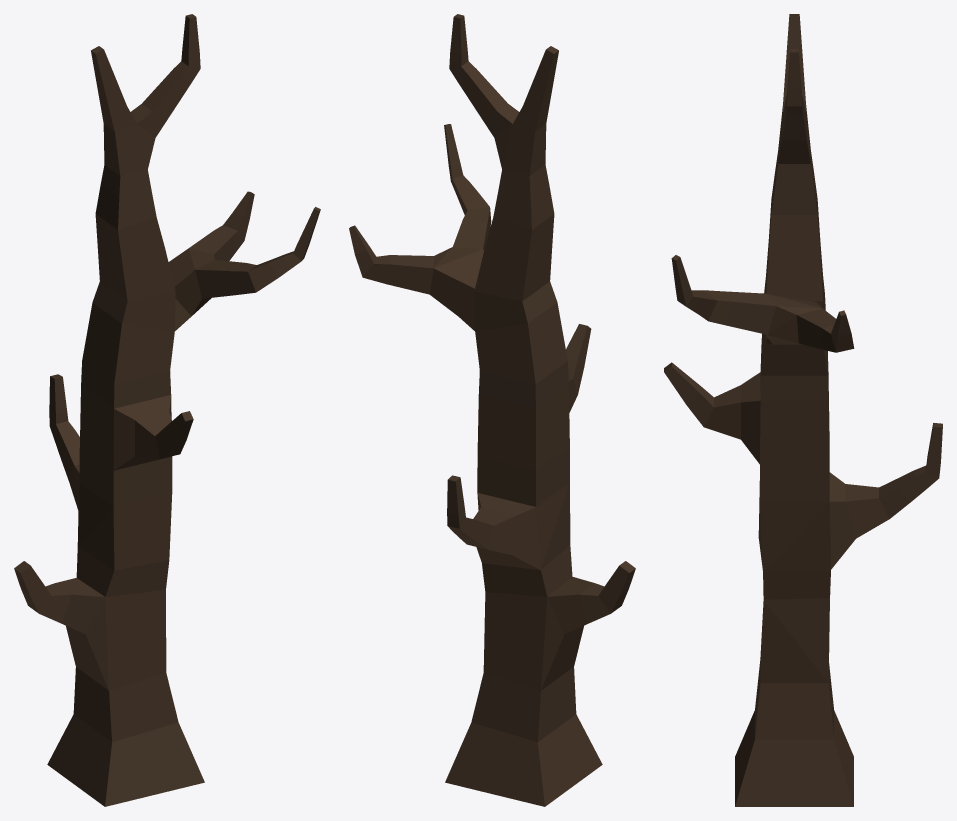
Rendered from DeadSequoiaTree1.fbx.
3 views of the same model, side by side, from view 1: azimuth 30°, elevation 25°; view 2: azimuth 150°, elevation 25°; view 3: azimuth 270°, elevation 25° (orthographic). The views are drawn at different scales.
Parts seen in each view (by area): view 1: DeadSequoiaTree1; view 2: DeadSequoiaTree1; view 3: DeadSequoiaTree1.
Boxes of the visible parts, x1=… form: DeadSequoiaTree1: x1=14, y1=14, x2=320, y2=806; DeadSequoiaTree1: x1=349, y1=14, x2=635, y2=806; DeadSequoiaTree1: x1=664, y1=14, x2=942, y2=806.
Bounding box in the file's own units: 3.78 × 10.3 × 3.41.
